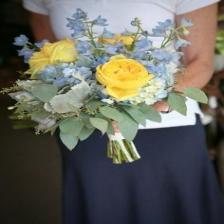yellow: (25, 39, 77, 79), (97, 58, 155, 89), (49, 39, 77, 64), (115, 35, 132, 45), (99, 39, 117, 44)
